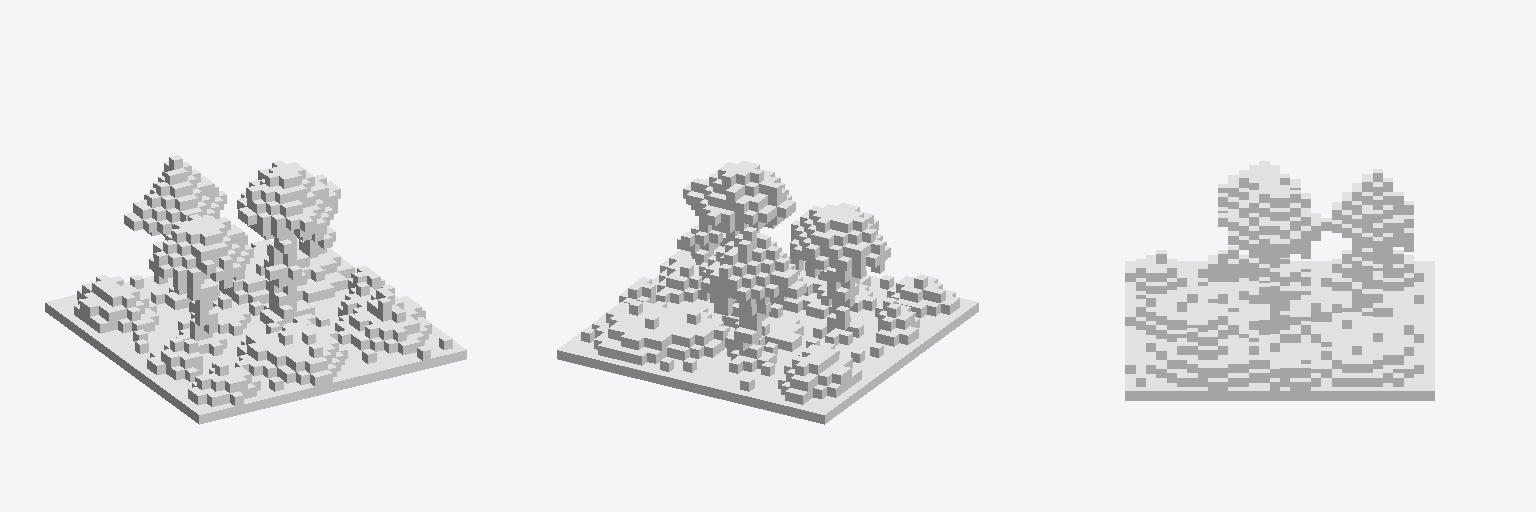
File: arb.obj
The picture shows the model from 3 angles: view 1: azimuth 30°, elevation 25°; view 2: azimuth 150°, elevation 25°; view 3: azimuth 270°, elevation 25°; orthographic projection.
Visible parts, largest first — view 1: object 1; view 2: object 1; view 3: object 1.
Boxes of the visible parts, box(x1,y1,x2,y2) form: object 1: box(45, 155, 466, 424); object 1: box(557, 160, 978, 424); object 1: box(1125, 161, 1434, 400).
Size of the model in its own units: 3 by 1.7 by 3.